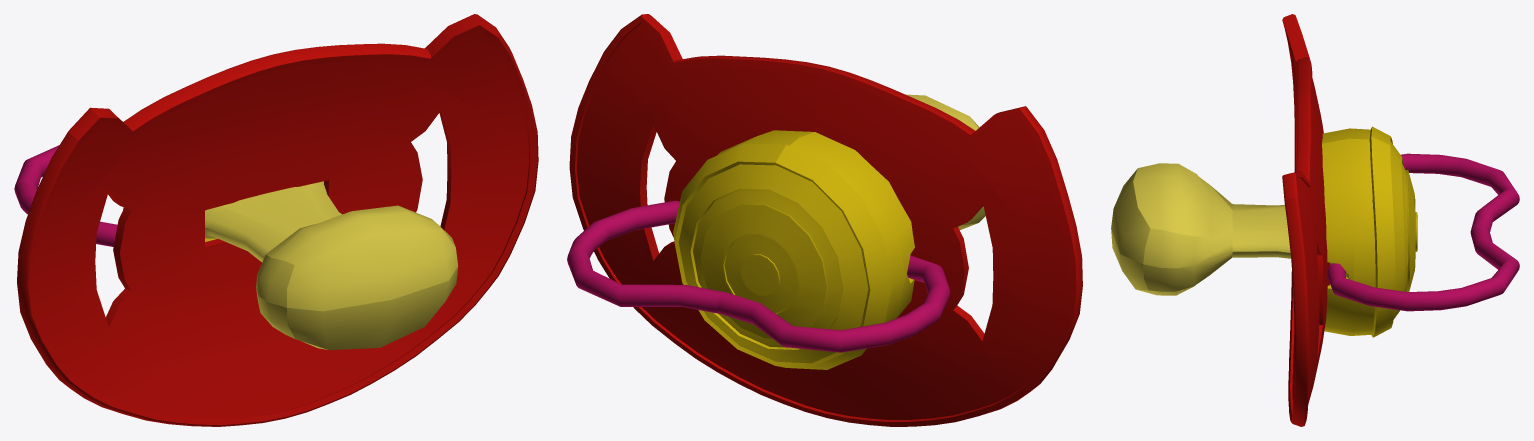
The model's file is pacifier.fbx.
3 renders of one model, left to right at view 1: azimuth 30°, elevation 25°; view 2: azimuth 150°, elevation 25°; view 3: azimuth 270°, elevation 25°, orthographic. The views are drawn at different scales.
Parts seen in each view (by area): view 1: pacifier; view 2: pacifier; view 3: pacifier.
Boxes of the visible parts, left/top/right/bottom form: pacifier: left=14, top=14, right=538, bottom=426; pacifier: left=567, top=14, right=1082, bottom=426; pacifier: left=1111, top=14, right=1519, bottom=426.
Size of the model in its own units: 458 by 303 by 370.
